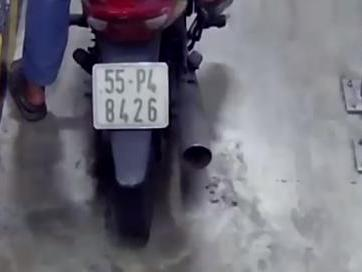num_plate: (90, 62, 170, 129)
